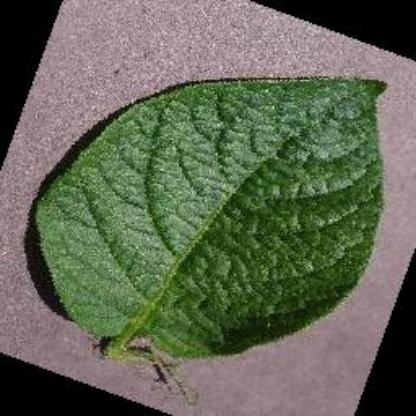Healthy-plant: (32, 66, 392, 360)
